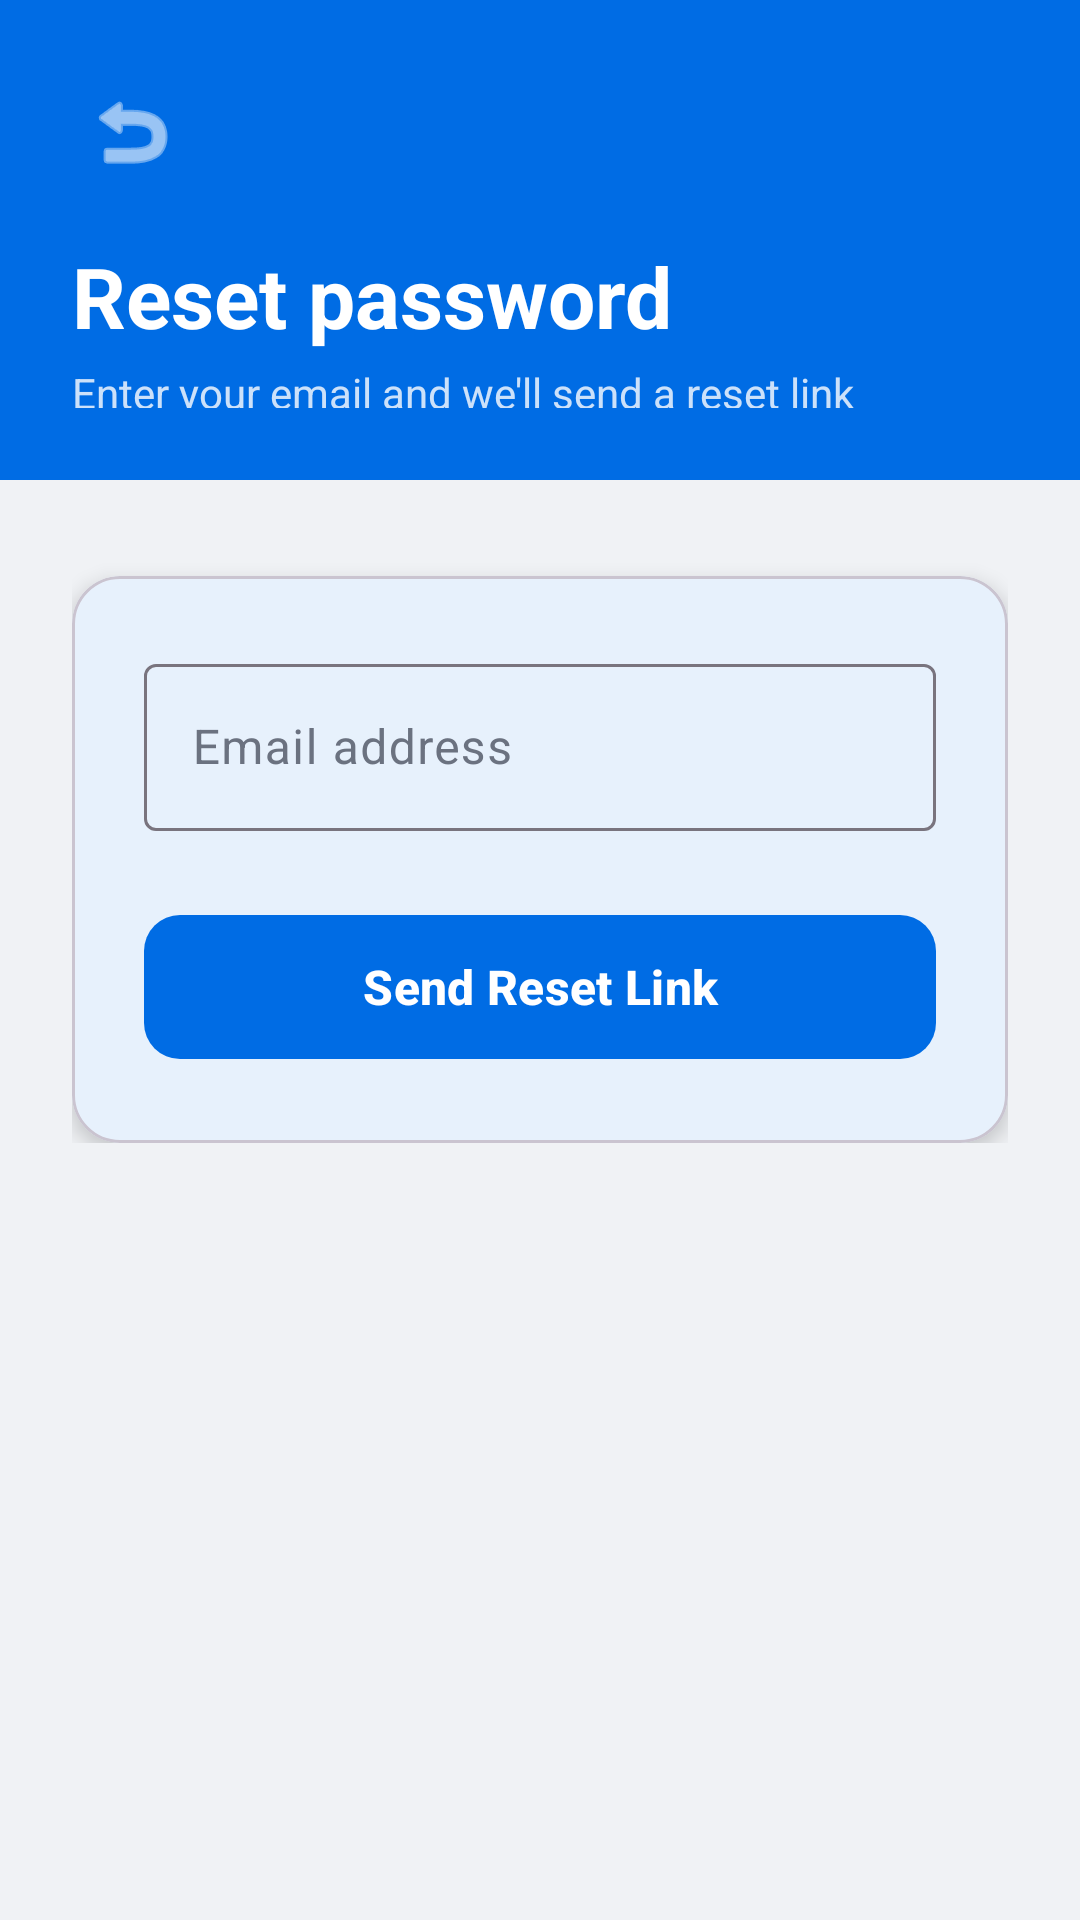

Point at icon controls on the screen. Image size 1080*1920, points as (x,y).
revert: (133,132)
